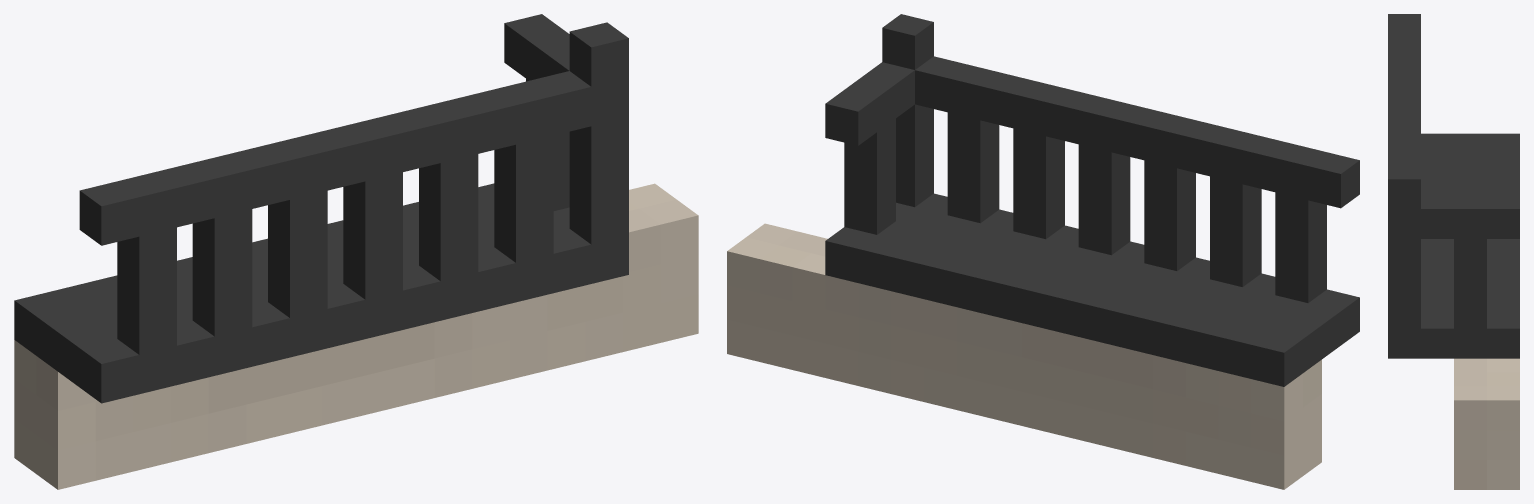
The model's file is palazzo6.glb.
The picture shows the model from 3 angles, left to right: view 1: azimuth 30°, elevation 25°; view 2: azimuth 150°, elevation 25°; view 3: azimuth 270°, elevation 25°; orthographic projection. The views are drawn at different scales.
Parts seen in each view (by area): view 1: Ringhiera.Marcapiano.Sx; view 2: Ringhiera.Marcapiano.Sx; view 3: Ringhiera.Marcapiano.Sx.
Boxes of the visible parts, box(x1,y1,x2,y2) form: Ringhiera.Marcapiano.Sx: box(14, 14, 698, 489); Ringhiera.Marcapiano.Sx: box(727, 14, 1359, 489); Ringhiera.Marcapiano.Sx: box(1388, 14, 1519, 489).
Size of the model in its own units: 17 by 9 by 4.
Materials: 2 (2 with a texture image).
